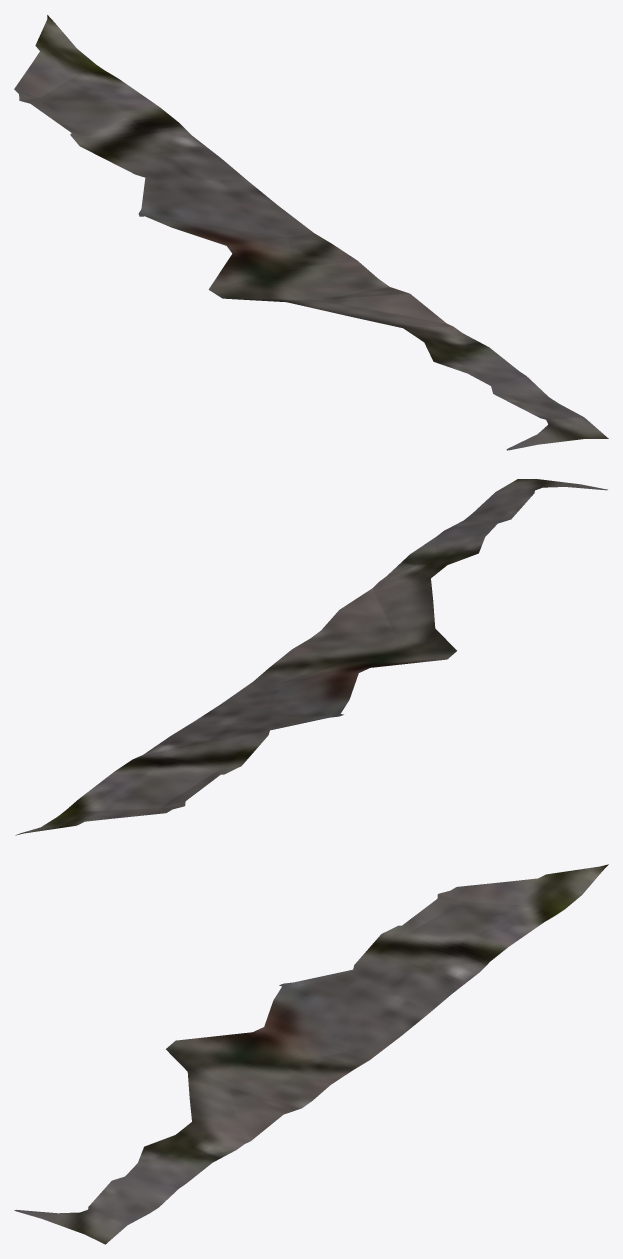
The picture shows the model from 3 angles, top to bottom: view 1: azimuth 30°, elevation 25°; view 2: azimuth 150°, elevation 25°; view 3: azimuth 330°, elevation 25°; orthographic projection. The views are drawn at different scales.
Bounding box in the file's own units: 0.0841 × 0.0116 × 0.5082.
Materials: 1 (1 with a texture image).
